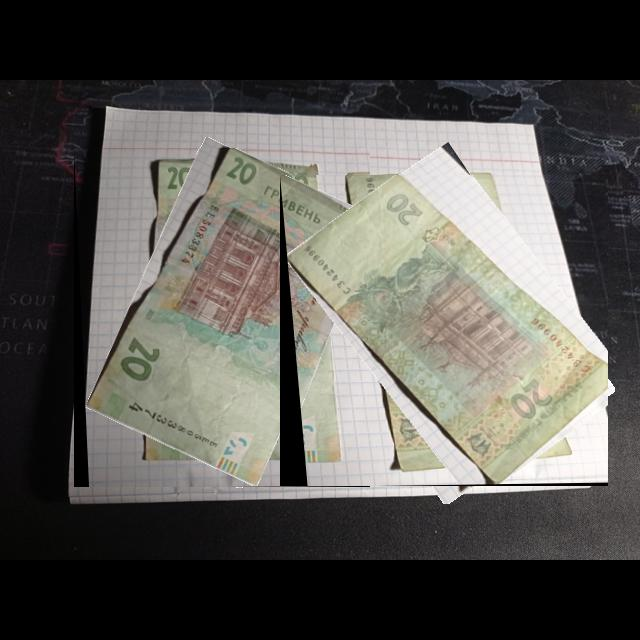20uah: (286, 175, 609, 485), (83, 148, 371, 488)
